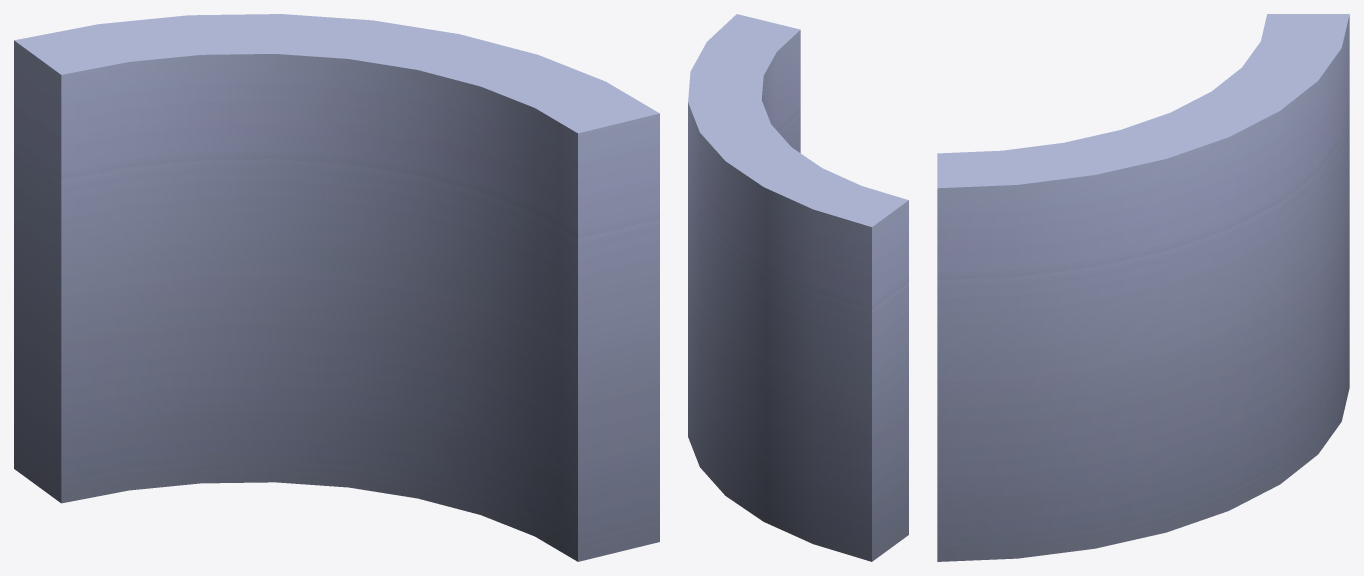
The model's file is wall-round.glb.
3 renders of one model, left to right at view 1: azimuth 30°, elevation 25°; view 2: azimuth 150°, elevation 25°; view 3: azimuth 270°, elevation 25°, orthographic. The views are drawn at different scales.
Visible parts, largest first — view 1: wall-round; view 2: wall-round; view 3: wall-round.
Boxes of the visible parts, x1,y1,x2,y2 form: wall-round: (14,14,659,561); wall-round: (688,14,908,561); wall-round: (937,14,1349,561).
Bounding box in the file's own units: 1 × 1 × 1.
Materials: 1 (1 with a texture image).
